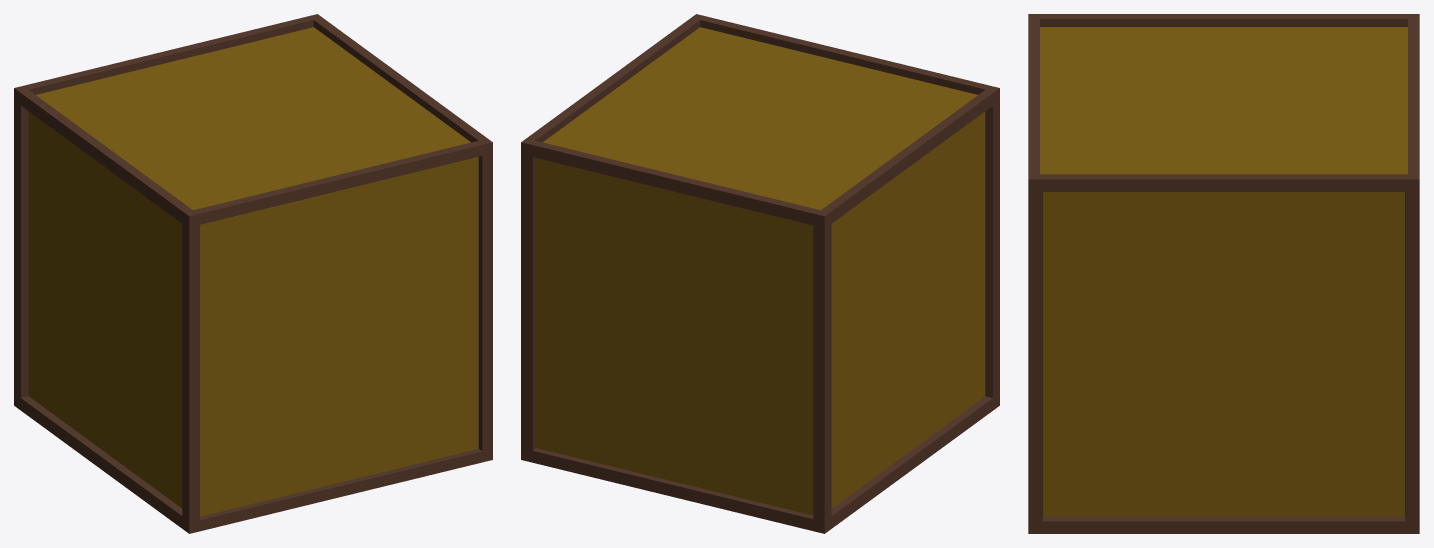
File: crate.fbx
3 views of the same model, side by side, from view 1: azimuth 30°, elevation 25°; view 2: azimuth 150°, elevation 25°; view 3: azimuth 270°, elevation 25° (orthographic). The views are drawn at different scales.
Visible parts, largest first — view 1: Cube.001, Cube; view 2: Cube.001, Cube; view 3: Cube.001, Cube.
Part boxes in pixels (x1=…): Cube.001: x1=28, y1=27, x2=478, y2=516; Cube: x1=14, y1=14, x2=492, y2=533; Cube.001: x1=536, y1=27, x2=985, y2=515; Cube: x1=521, y1=14, x2=999, y2=533; Cube.001: x1=1040, y1=27, x2=1407, y2=516; Cube: x1=1028, y1=14, x2=1419, y2=533.
Bounding box in the file's own units: 28.15 × 28.15 × 28.15.
